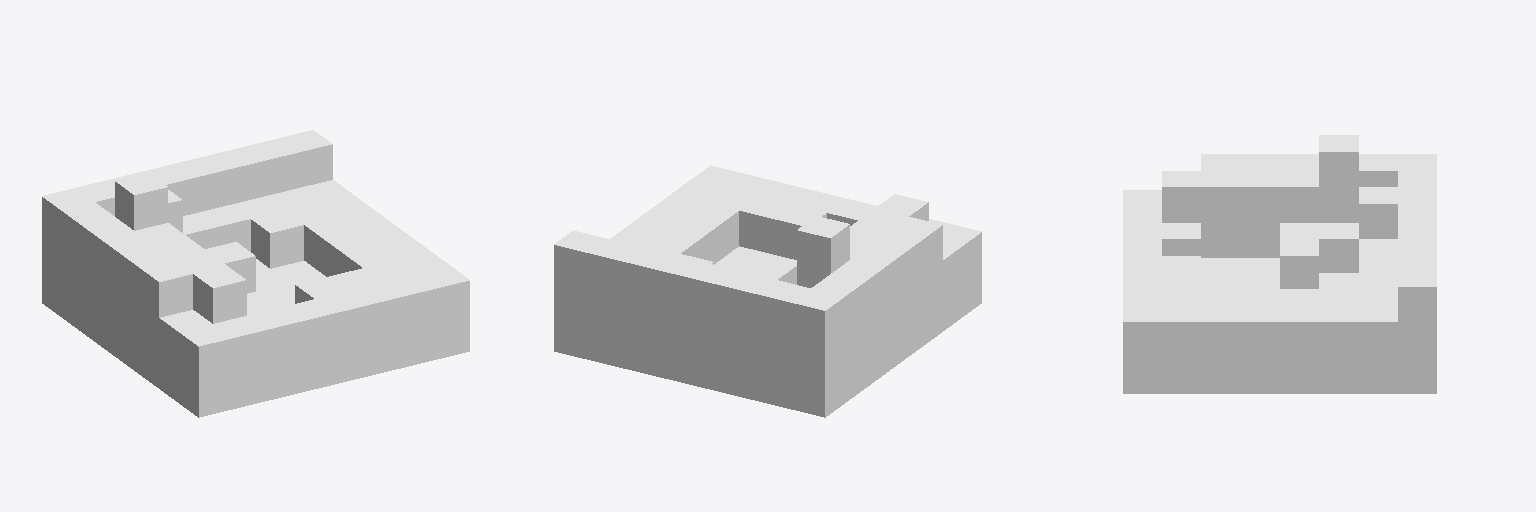
File: Lava12.obj
The picture shows the model from 3 angles: view 1: azimuth 30°, elevation 25°; view 2: azimuth 150°, elevation 25°; view 3: azimuth 270°, elevation 25°; orthographic projection.
Visible parts, largest first — view 1: object 1; view 2: object 1; view 3: object 1.
Boxes of the visible parts, x1=… form: object 1: x1=42, y1=130, x2=469, y2=417; object 1: x1=554, y1=165, x2=981, y2=417; object 1: x1=1123, y1=135, x2=1436, y2=393.
Bounding box in the file's own units: 0.8 × 0.4 × 0.8.